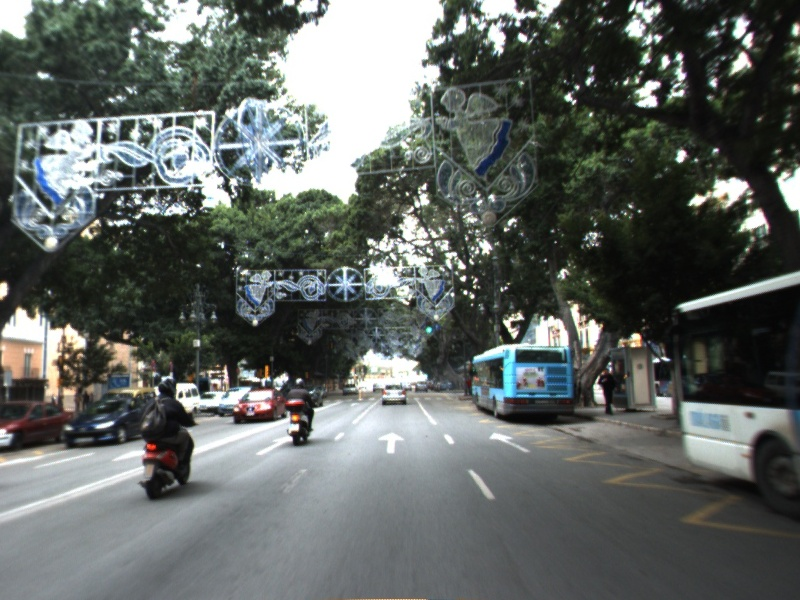STRAIGHT: (487, 430, 534, 455), (253, 434, 295, 457), (376, 430, 407, 455)
